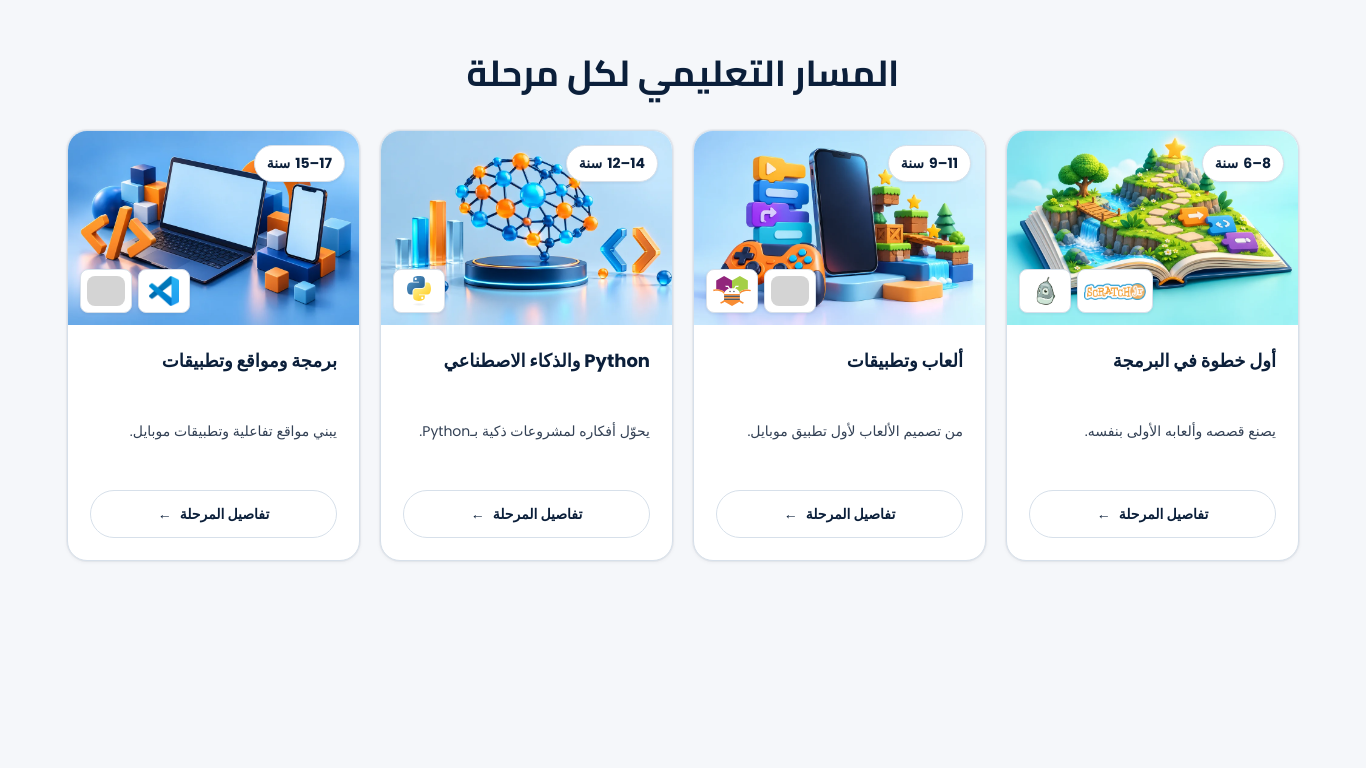
homepage pathway cards › renders Arabic copy with isolated left-to-right age ranges
Expected: the heading "أول خطوة في البرمجة" is shown, [1113, 348, 1276, 373]
Expected: the text "6–8" is shown, [1243, 153, 1271, 174]
Click the button with aria-label "تفاصيل المرحلة: من البرمجة إلى الذكاء الاصطناعي": (526,514) [403, 490, 650, 538]
(page scrolled)
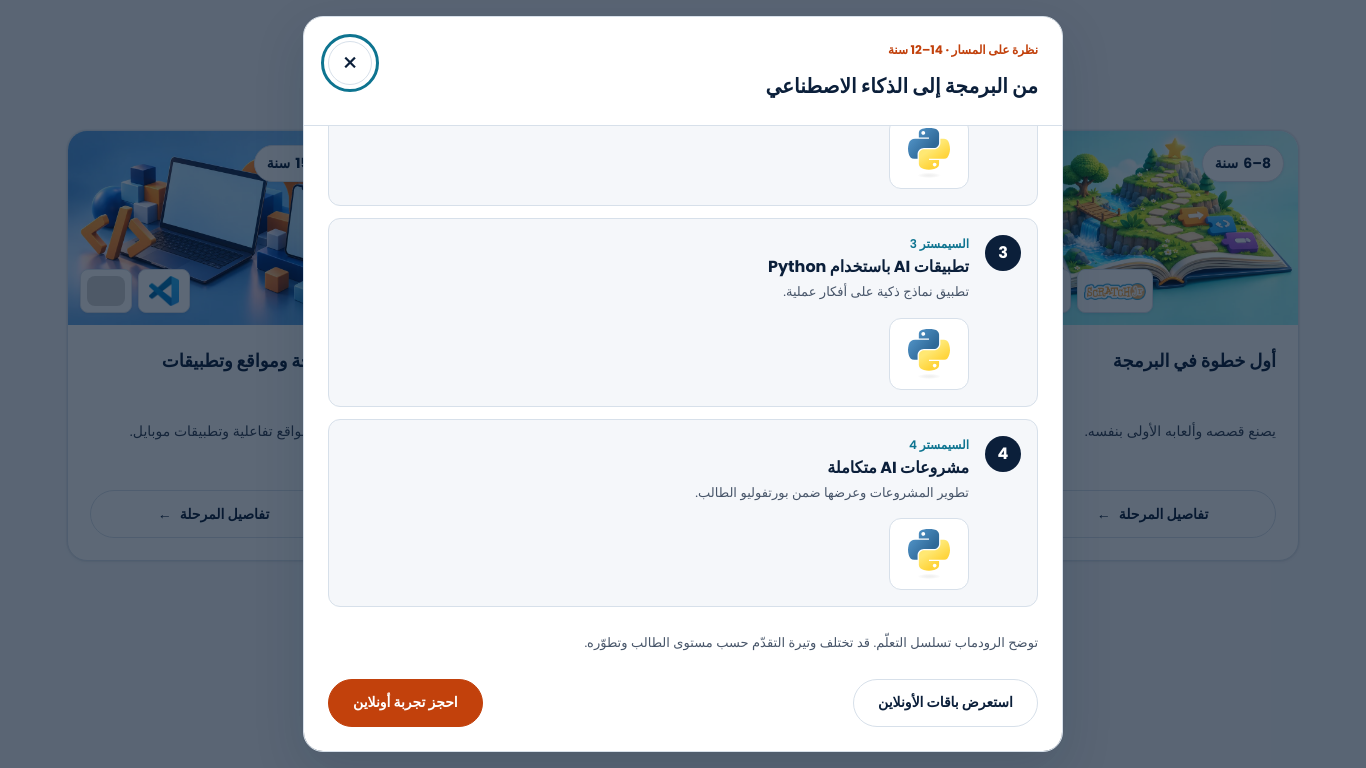
Expected: the text "السيمستر 4" is shown, [909, 436, 969, 453]
